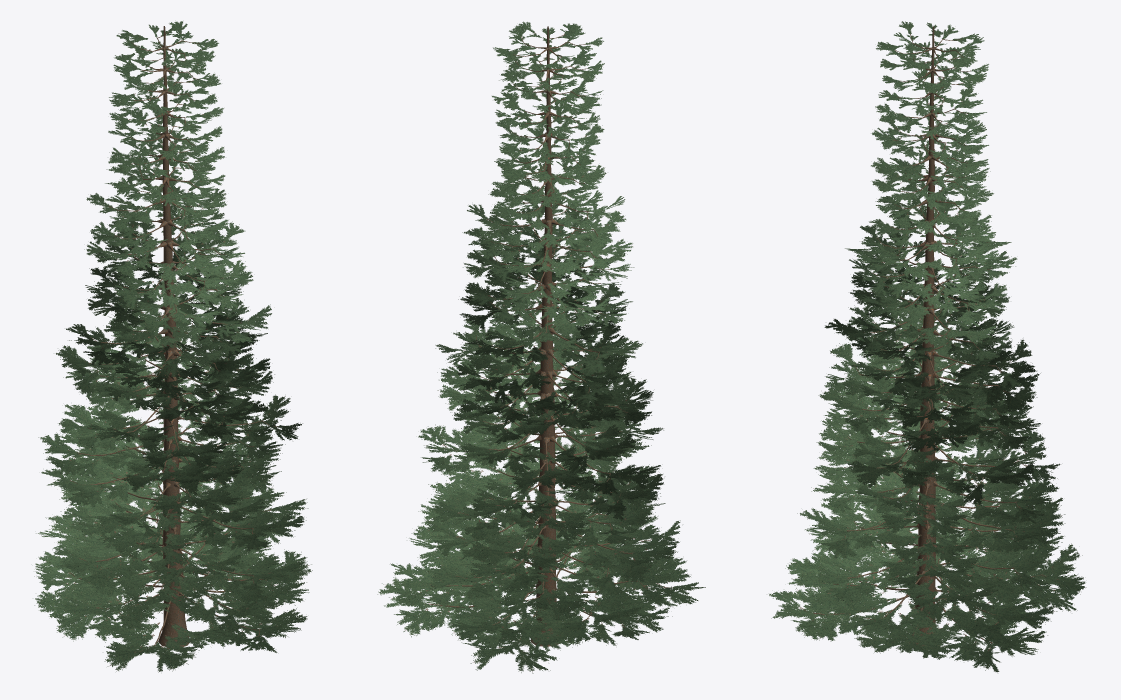
The model's file is Scenery_Spruce_V2.fbx.
3 renders of one model, left to right at view 1: azimuth 30°, elevation 25°; view 2: azimuth 150°, elevation 25°; view 3: azimuth 270°, elevation 25°, orthographic.
Parts seen in each view (by area): view 1: Scenery_Spruce_V2_LOD0; view 2: Scenery_Spruce_V2_LOD0; view 3: Scenery_Spruce_V2_LOD0.
Boxes of the visible parts, <box> form: Scenery_Spruce_V2_LOD0: <box>34,21,312,672</box>; Scenery_Spruce_V2_LOD0: <box>377,21,705,673</box>; Scenery_Spruce_V2_LOD0: <box>769,21,1086,672</box>.
Size of what is drawn, in the model's own units: 9.4 by 19.95 by 10.43.
